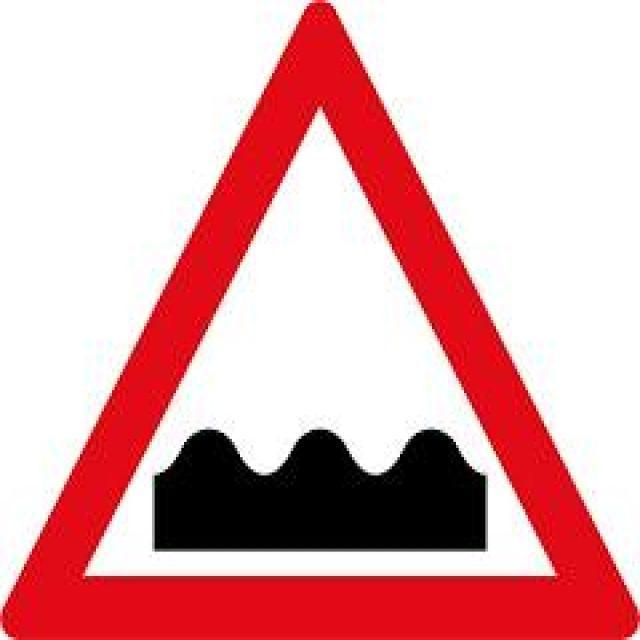hump or rough road: (25, 17, 609, 615)
